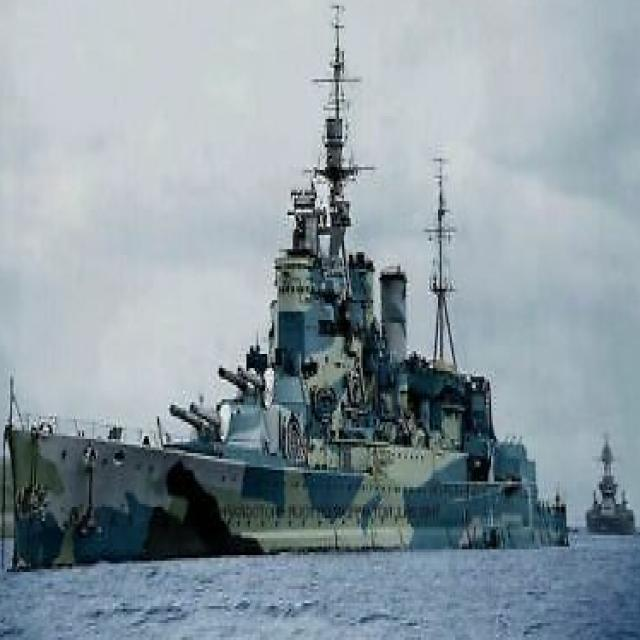navalvessels: (38, 44, 548, 571), (574, 424, 639, 556)
